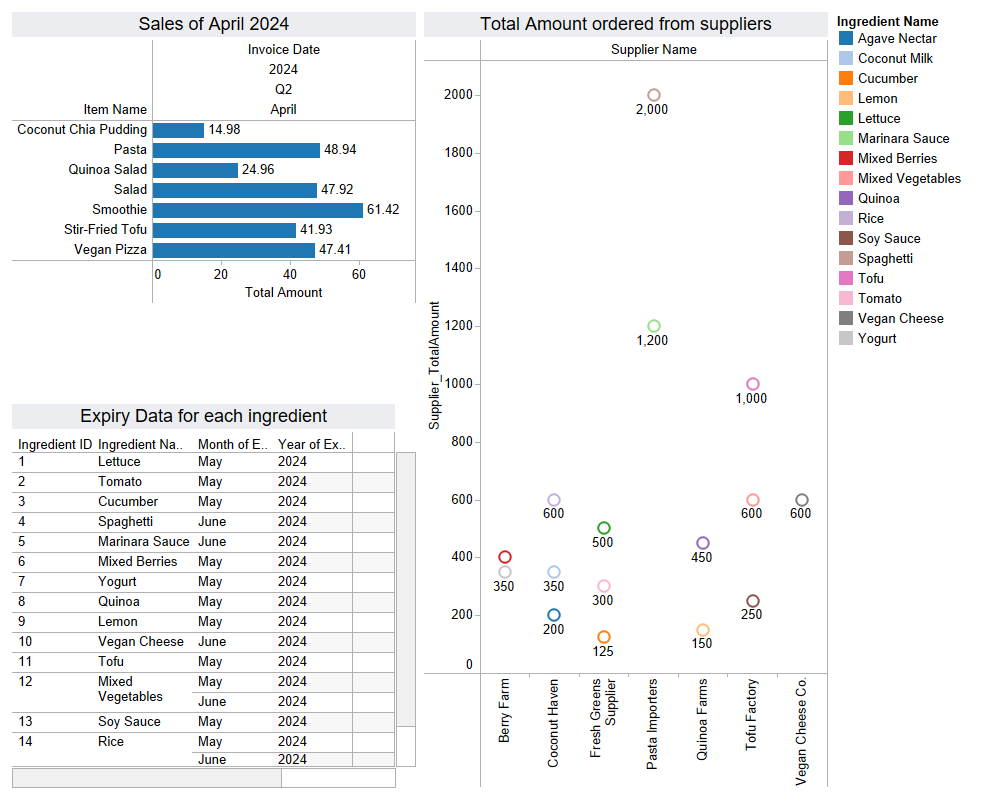

The page's visual inventory and layout, read from the dashboard file:
{"tool":"tableau","page":{"name":"Dashboard 1","canvas":[1000,800],"ordinal":0},"visuals":[{"type":"worksheet","title":"Sheet 1","mark":"Bar","rows":["ItemName"],"cols":["InvoiceDate","InvoiceDate","InvoiceDate","TotalAmount"],"box":[8,8,412,392]},{"type":"worksheet","title":"Sheet 2","mark":"Shape","rows":["Calculation_1287748030715371520"],"cols":["SupplierName"],"box":[420,8,412,784]},{"type":"legend","title":"Sheet 2","param":"[federated.1fghhct0pfksiz161jzom1le0irb].[none:IngredientName:nk]","box":[832,8,160,344]},{"type":"worksheet","title":"Sheet 4","mark":"Automatic","rows":["IngredientID","IngredientName","ExpiryDate","ExpiryDate"],"box":[8,400,412,392]}]}

Visuals, with their boxes in screenshot pixels (x1, y1, x2, y2), scaled from the page's 1000x800 canvas onto the 1000x800 screenshot:
"Sheet 1" worksheet (Bar marks): bbox=[8, 8, 420, 400]
"Sheet 2" worksheet (Shape marks): bbox=[420, 8, 832, 792]
"Sheet 2" legend: bbox=[832, 8, 992, 352]
"Sheet 4" worksheet: bbox=[8, 400, 420, 792]
